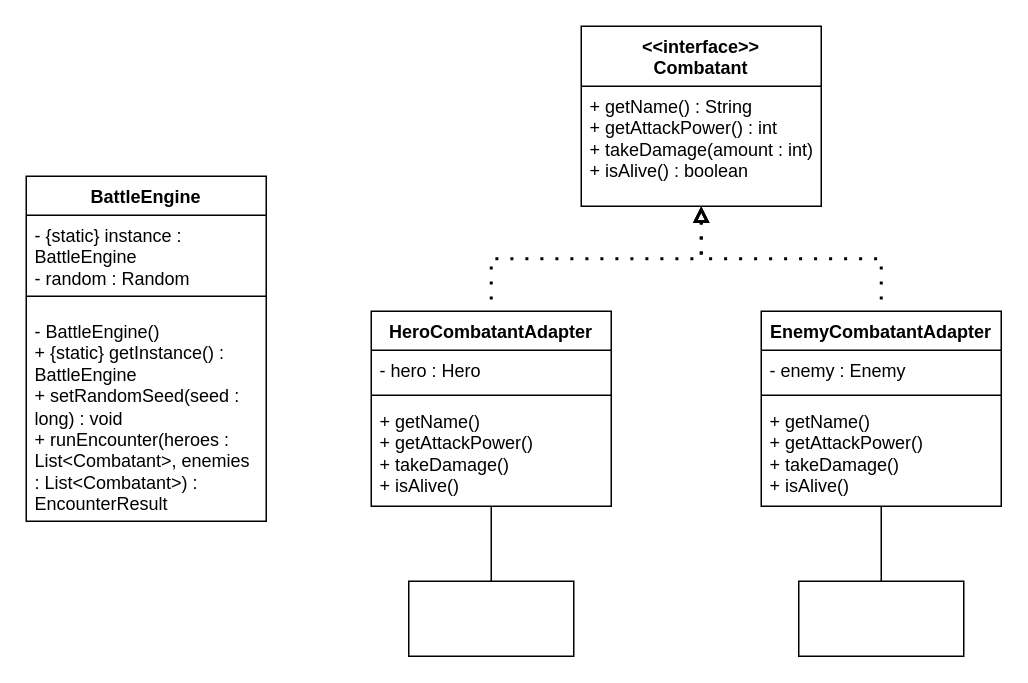
Some shapes in this 1028 by 683 pixel diagram are drawn without their labels. Here are the shapes that lost their labels. From the top down, the centre of each, then its label:
the point at 490,618: <<interface>> Hero
the point at 880,618: <<interface>> Enemy
